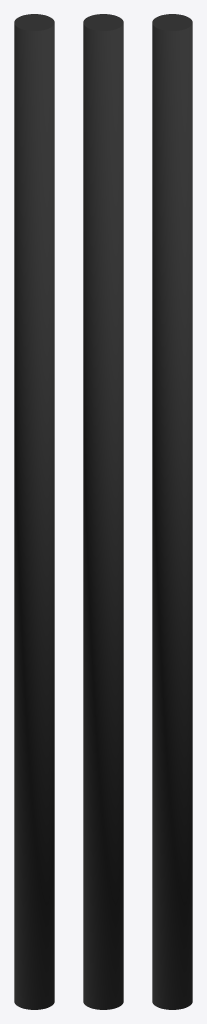
Rendered from post.dae.
The picture shows the model from 3 angles, left to right: view 1: azimuth 90°, elevation 25°; view 2: azimuth 150°, elevation 25°; view 3: azimuth 270°, elevation 25°; orthographic projection.
Parts seen in each view (by area): view 1: Post; view 2: Post; view 3: Post.
Boxes of the visible parts, left/top/right/bottom form: Post: left=14, top=14, right=54, bottom=1009; Post: left=83, top=14, right=123, bottom=1009; Post: left=152, top=14, right=192, bottom=1009.
Size of the model in its own units: 0.0075 by 0.0075 by 0.2009.
Materials: 1 (1 with a texture image).
